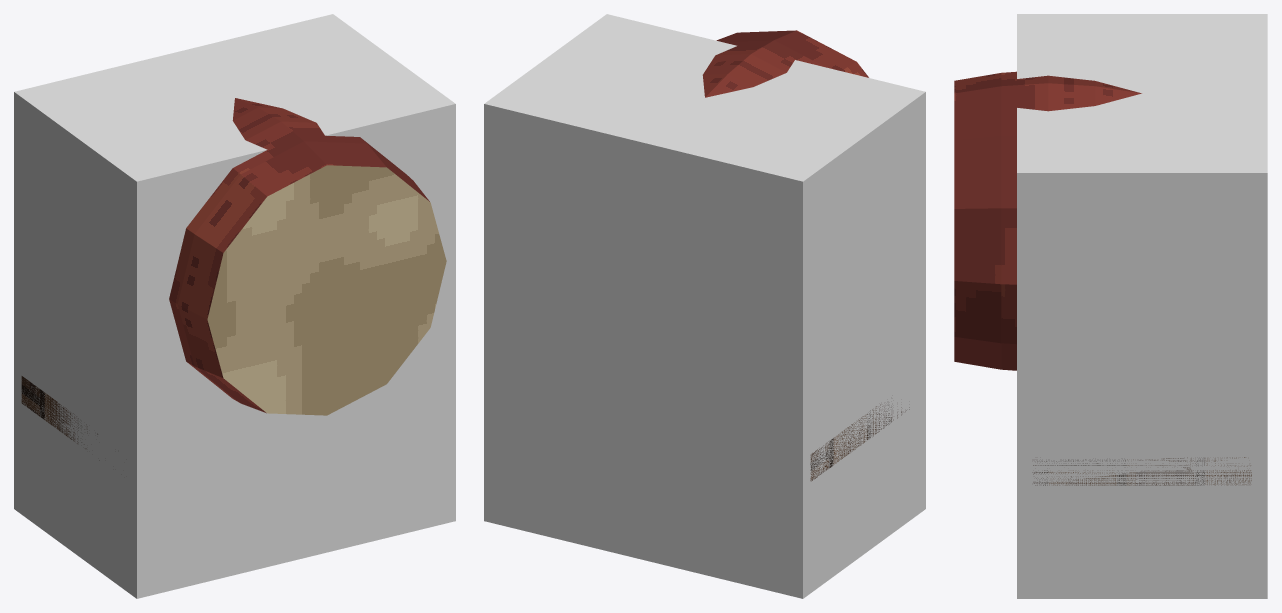
The model's file is JP_Prop_WarDrum_A.glb.
3 renders of one model, left to right at view 1: azimuth 30°, elevation 25°; view 2: azimuth 150°, elevation 25°; view 3: azimuth 270°, elevation 25°, orthographic. The views are drawn at different scales.
Parts seen in each view (by area): view 1: COL_JP_Prop_WarDrum_A, JP_Prop_WarDrum_A; view 2: COL_JP_Prop_WarDrum_A, JP_Prop_WarDrum_A; view 3: COL_JP_Prop_WarDrum_A, JP_Prop_WarDrum_A.
Part boxes in pixels (<box>): COL_JP_Prop_WarDrum_A: <box>14,14,455,598</box>; JP_Prop_WarDrum_A: <box>21,98,446,460</box>; COL_JP_Prop_WarDrum_A: <box>484,14,925,598</box>; JP_Prop_WarDrum_A: <box>702,30,909,481</box>; COL_JP_Prop_WarDrum_A: <box>1017,14,1267,598</box>; JP_Prop_WarDrum_A: <box>954,71,1251,485</box>.
Bounding box in the file's own units: 1.2 × 1.54 × 1.
3 materials, 3 textured.
